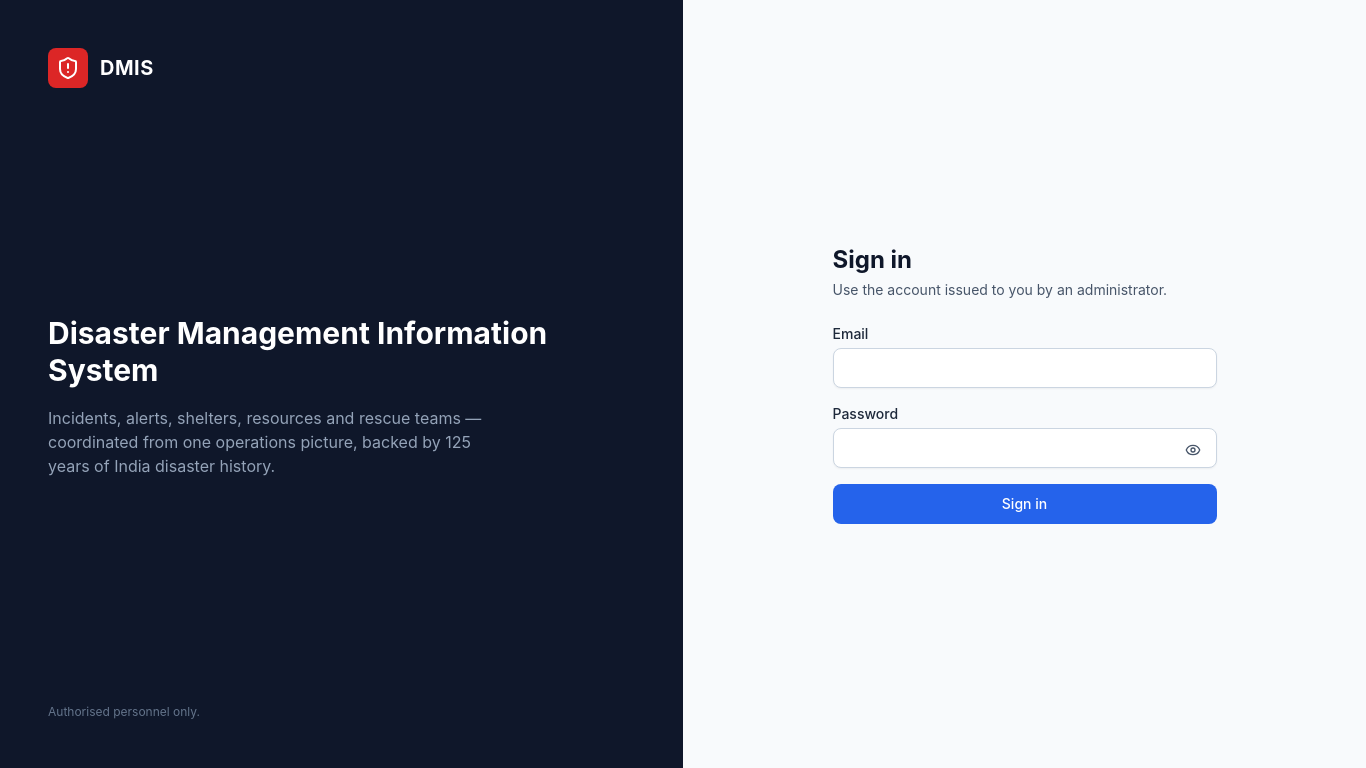
Scenario: authentication flow › signs in, stores the token, lands on the dashboard, and signs out
Type "admin@dmis.test" into the field labelled "Email" at (1024, 368), box [832,348,1216,388]
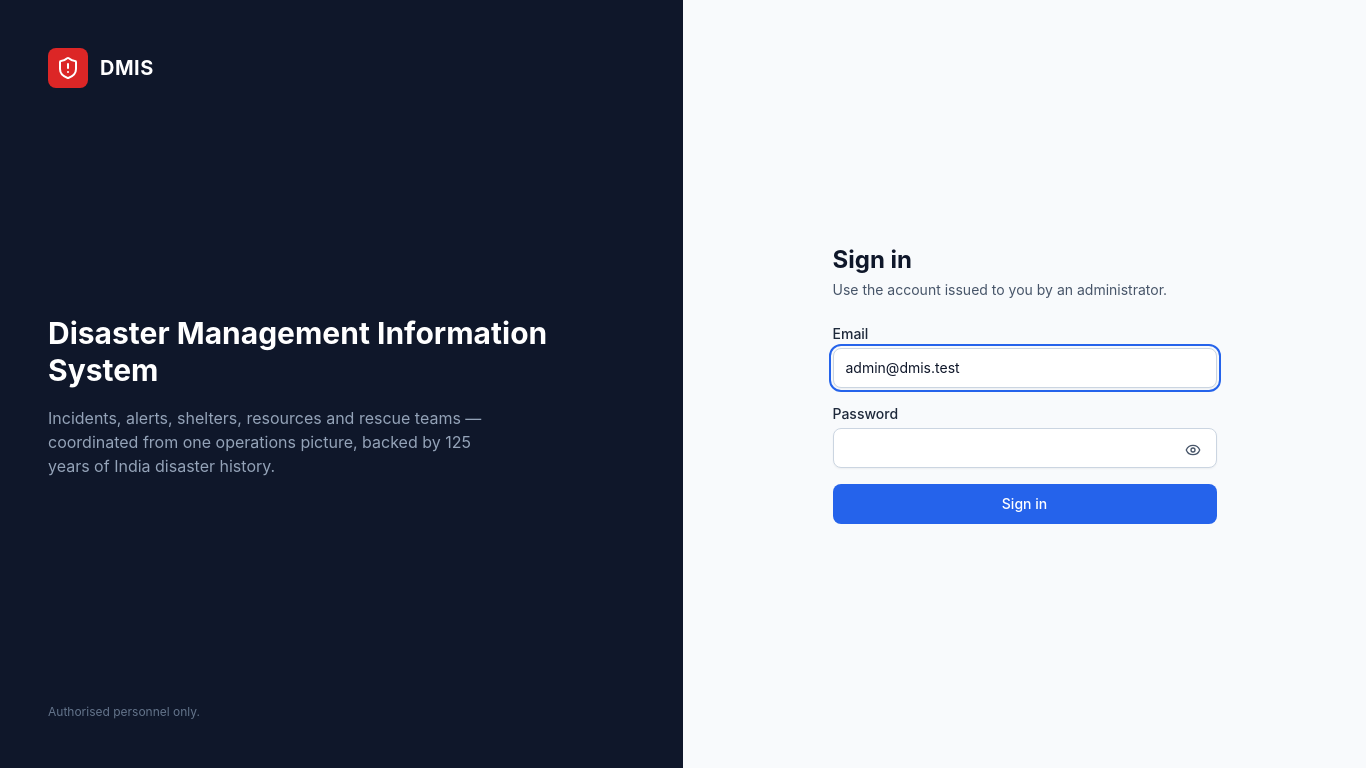
Type "Passw0rd1" into the password field labelled "Password" at (1024, 448), box [832,428,1216,468]
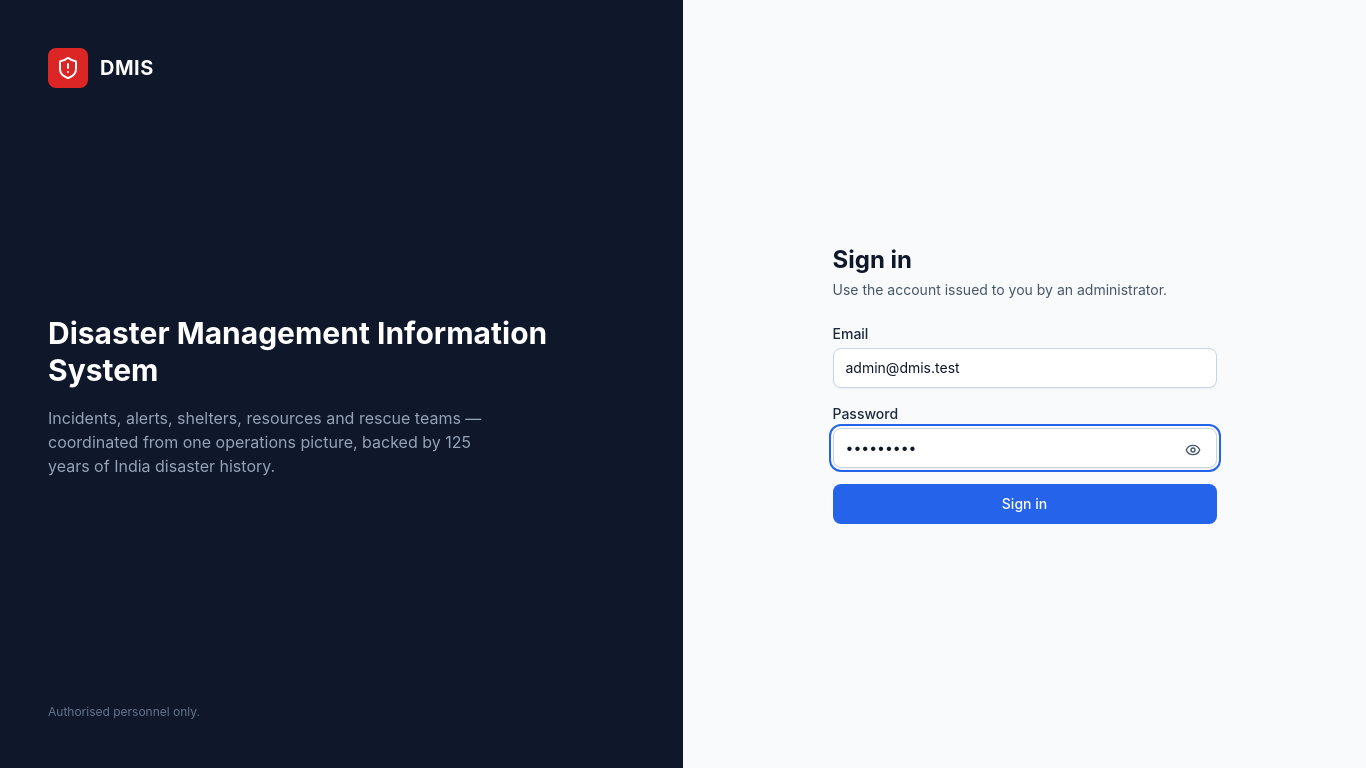
Click the button "Sign in" at (1024, 504), box [832,484,1216,524]
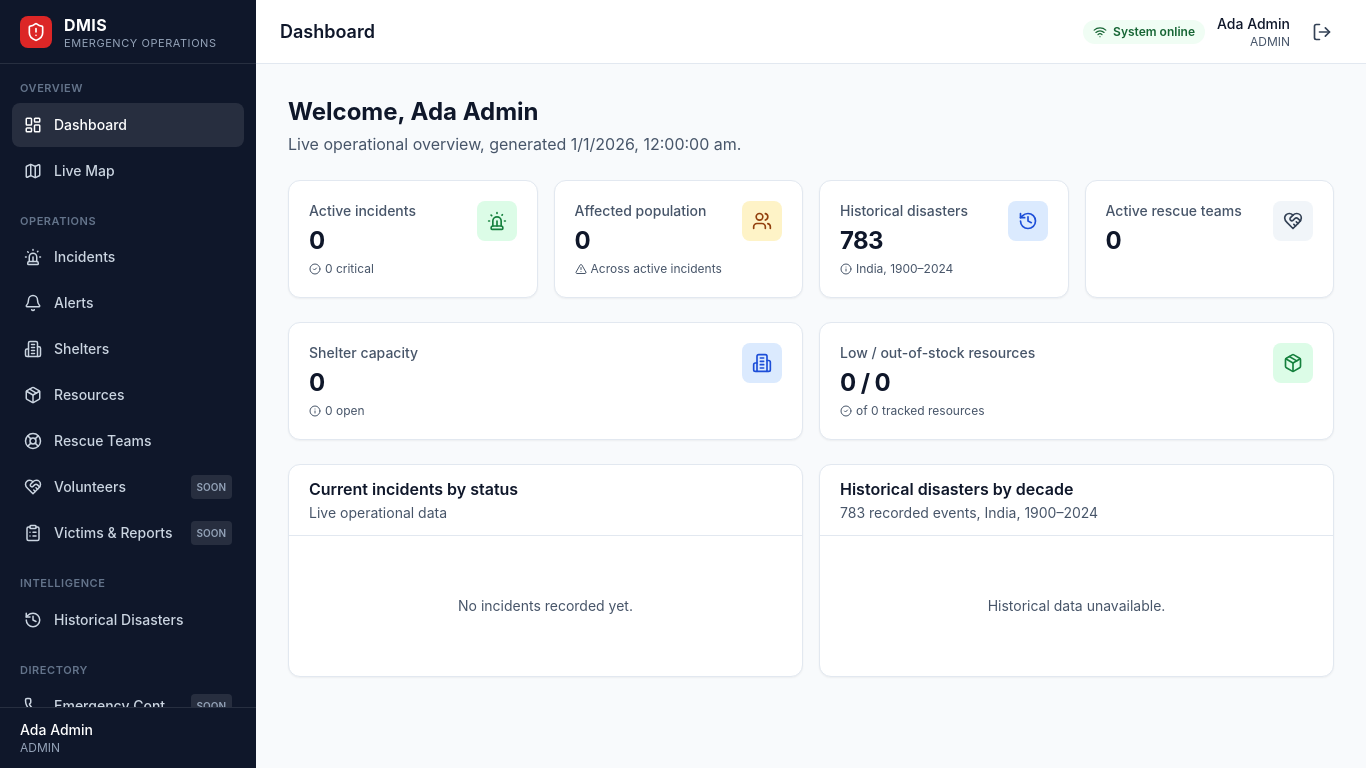
Check: the heading "Welcome, Ada Admin" is shown, box [288,97,538,126]
Click the button named "Sign out" at (1322, 32), box [1302,12,1342,52]
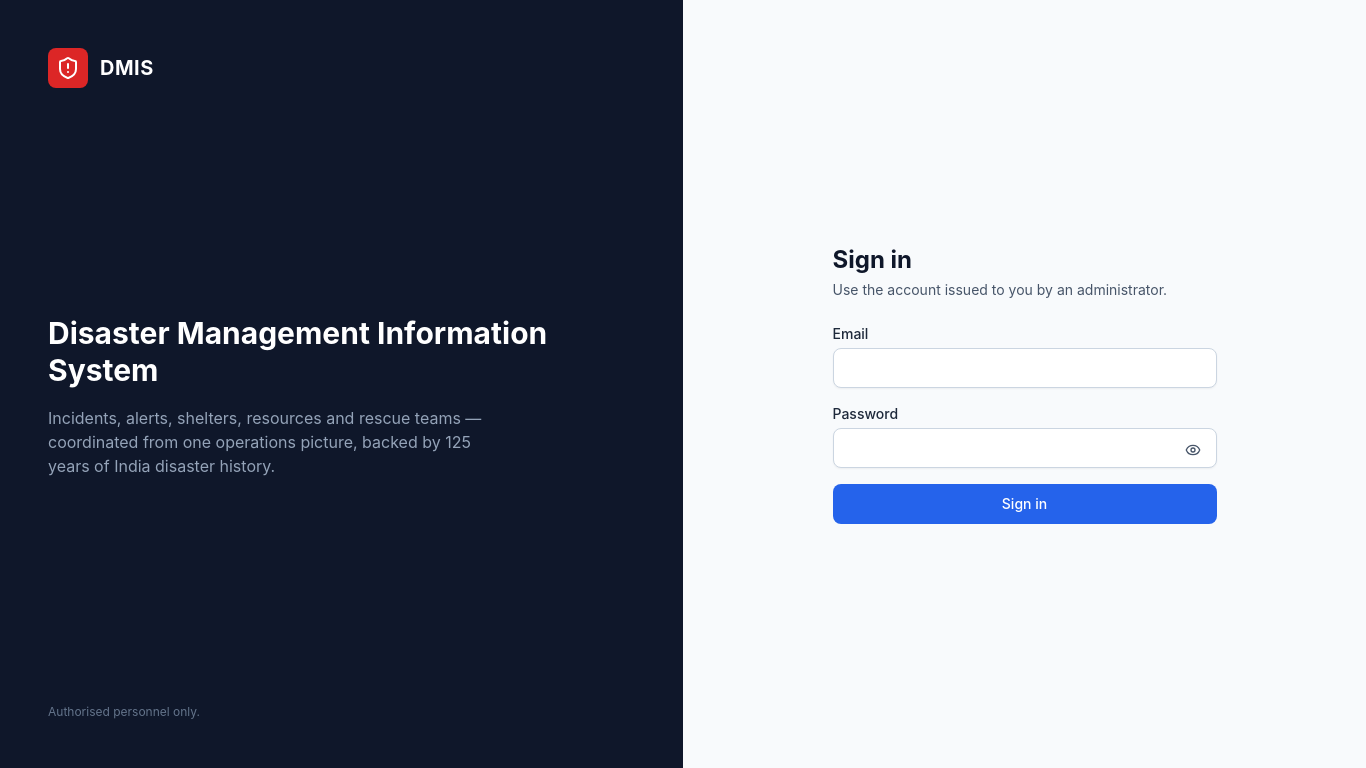
Check: the heading "Sign in" is shown, box [832,245,912,274]
